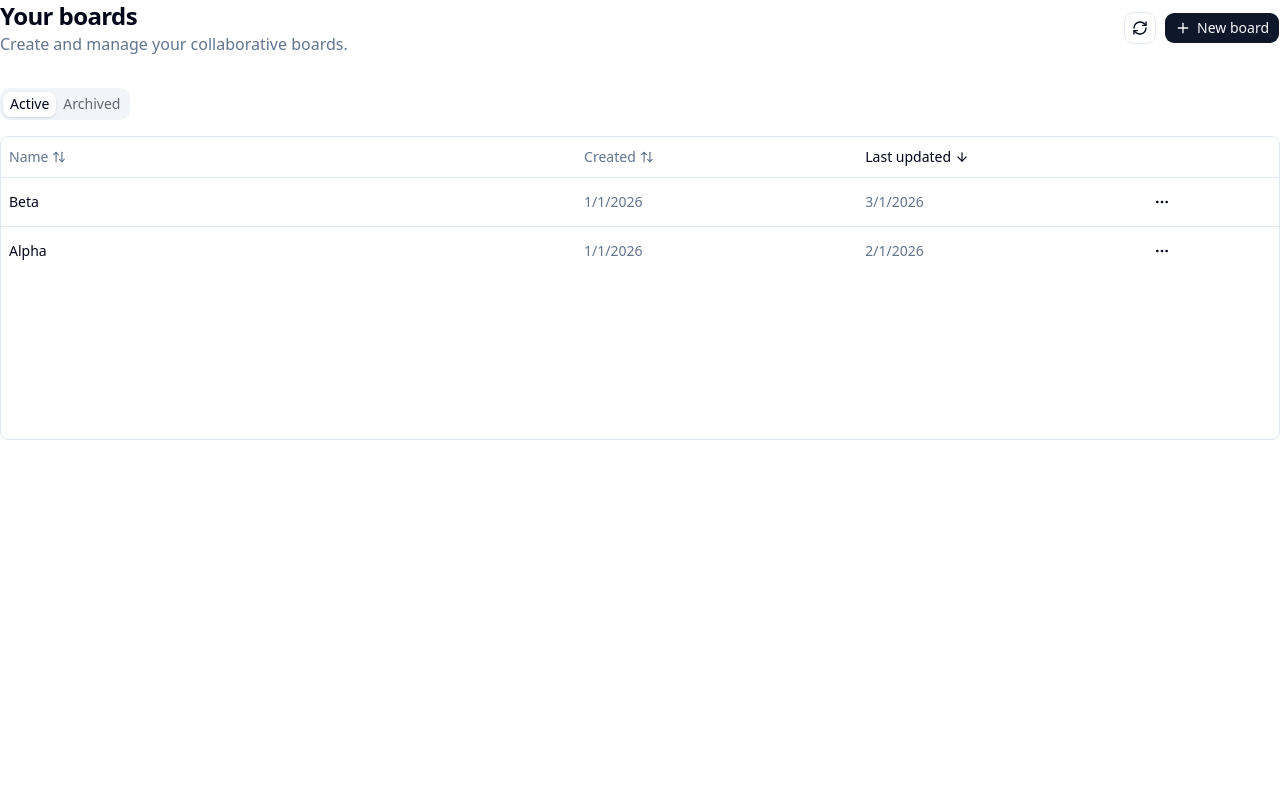
Test: DashboardPage integration › deletes a board after confirming the dialog
Expected: the button "Alpha" is shown, top-left (9, 240), bottom-right (568, 260)
Click the button named "Board actions" in the row of "2/1/2026": (1162, 250) top-left (1146, 234), bottom-right (1178, 266)
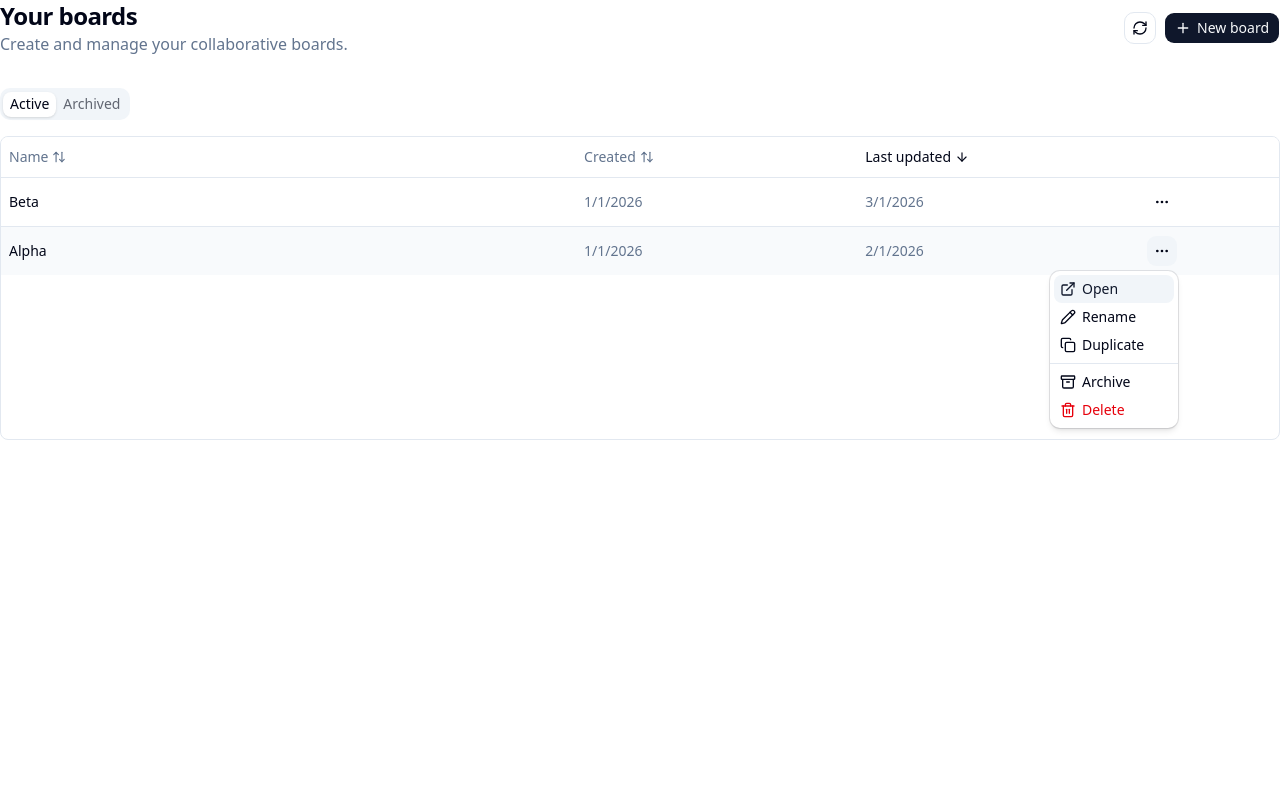
Now the menu is shown, box top-left (1050, 271), bottom-right (1178, 428)
Click the menu item "Delete": (1092, 410) top-left (1060, 400), bottom-right (1125, 419)
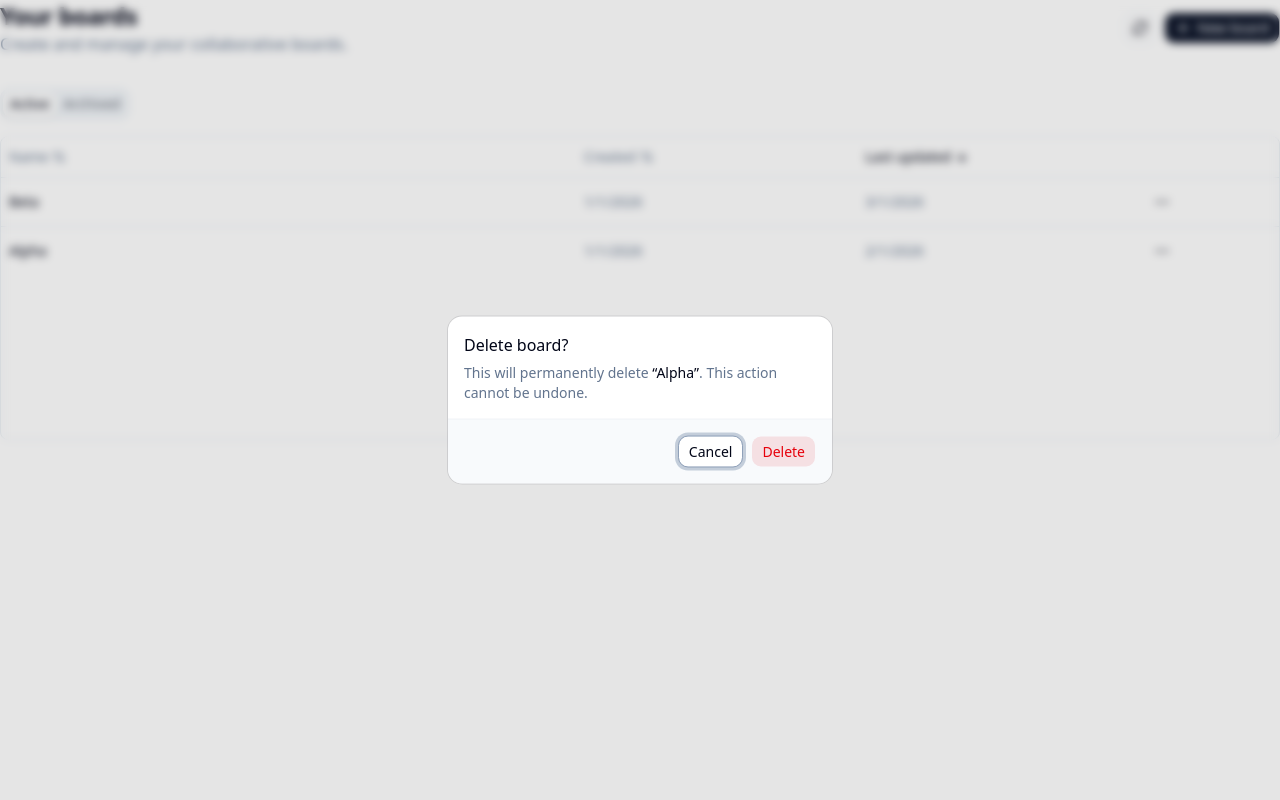
Now the text "This will permanently delete" is shown, box top-left (464, 362), bottom-right (649, 382)
Click the button "Delete": (784, 452) top-left (751, 436), bottom-right (816, 468)
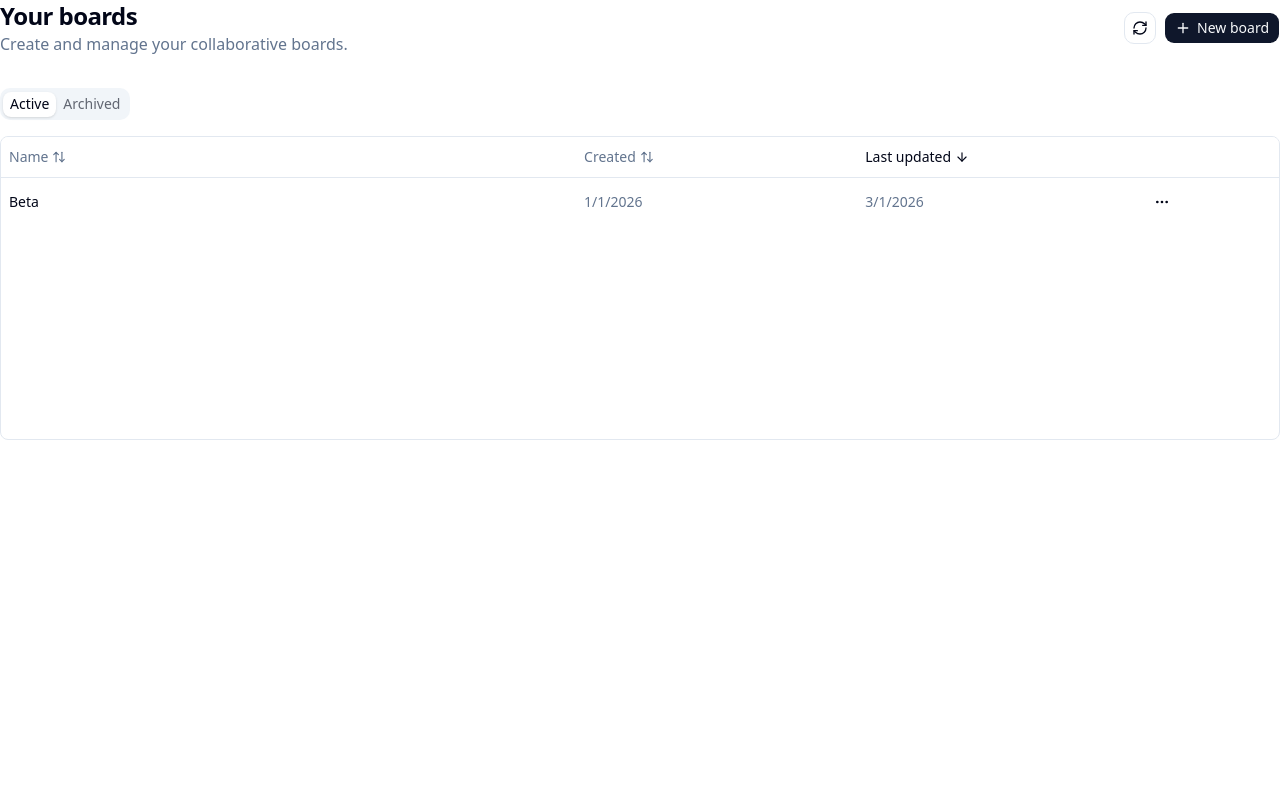
Expected: the button "Beta" is shown, top-left (9, 192), bottom-right (568, 212)
Now the dialog is gone
Now the button "Alpha" is gone
